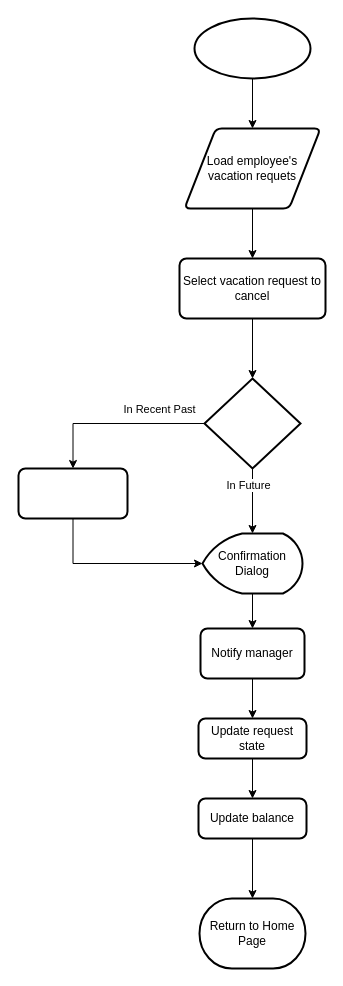
Image size: 343x986. Some labels were removed from this diagram. The centre of each missing label's shape, as x and y in pixels:
"Enter explaination" goes at point (72, 493).
"Open VTS Home Page" goes at point (252, 48).
"Request date" goes at point (252, 423).
